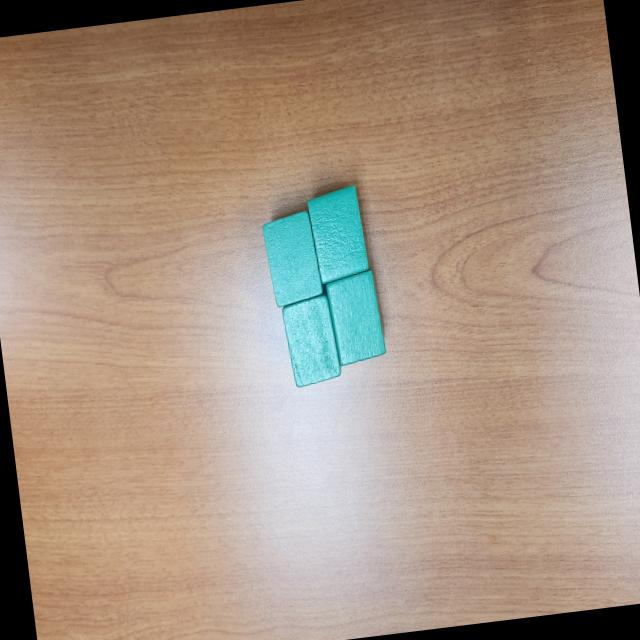green: (306, 182, 370, 284), (260, 206, 324, 308), (279, 293, 343, 390), (324, 268, 386, 368)
